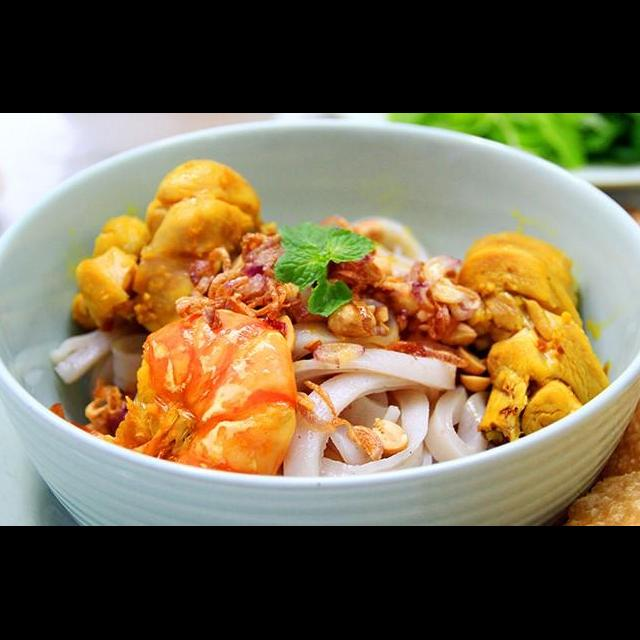mi: (267, 294, 491, 484), (45, 326, 158, 402), (336, 214, 439, 288)
thit ga: (64, 158, 281, 338), (452, 228, 613, 452)
tom: (44, 304, 302, 488)
